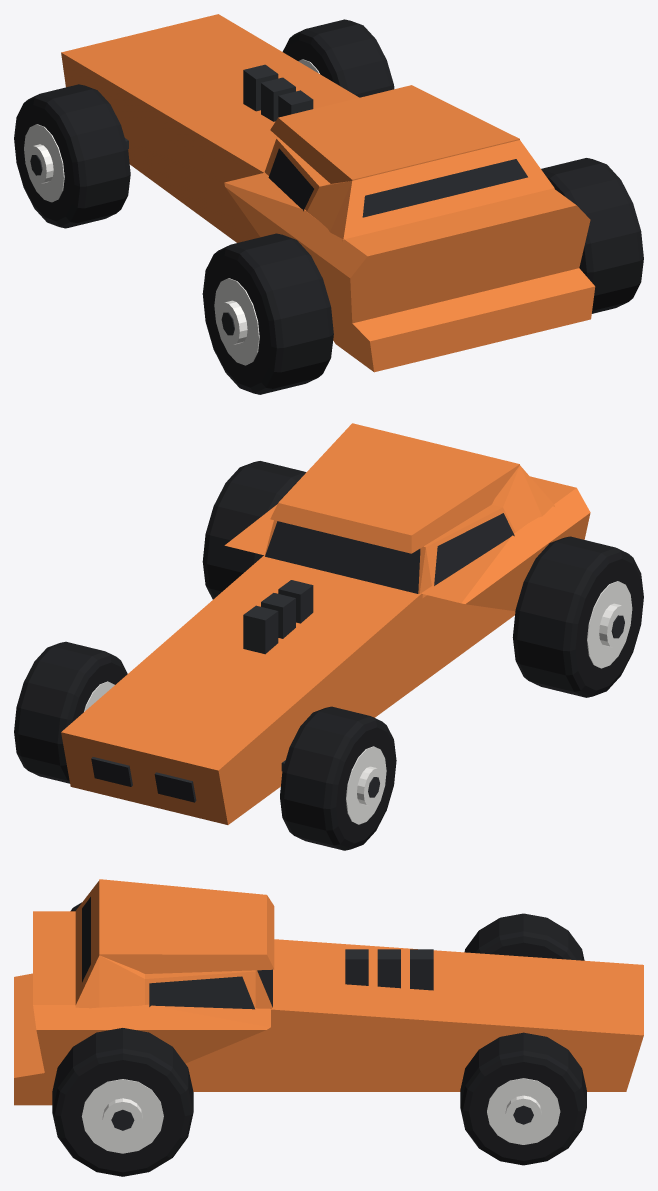
Rendered from dragster.glb.
The picture shows the model from 3 angles, top to bottom: view 1: azimuth 30°, elevation 25°; view 2: azimuth 150°, elevation 25°; view 3: azimuth 270°, elevation 25°; orthographic projection. The views are drawn at different scales.
Parts seen in each view (by area): view 1: body, wheel_RL, wheel_FL, wheel_RR, wheel_FR; view 2: body, wheel_RL, wheel_FL, wheel_FR, wheel_RR; view 3: body, wheel_RR, wheel_FR, wheel_FL.
Part boxes in pixels (x1,y1,x2,y2): body: (61, 14, 595, 372); wheel_RL: (202, 233, 333, 394); wheel_FL: (14, 84, 130, 228); wheel_RR: (541, 158, 643, 313); wheel_FR: (282, 19, 394, 97); body: (61, 423, 590, 824); wheel_RL: (512, 536, 643, 697); wheel_FL: (280, 706, 396, 850); wheel_FR: (14, 641, 127, 783); wheel_RR: (202, 461, 306, 599); body: (14, 879, 643, 1105); wheel_RR: (52, 1028, 193, 1176); wheel_FR: (460, 1032, 586, 1165); wheel_FL: (464, 913, 584, 960).
Bounding box in the file's own units: 2.45 × 1.17 × 3.72.
